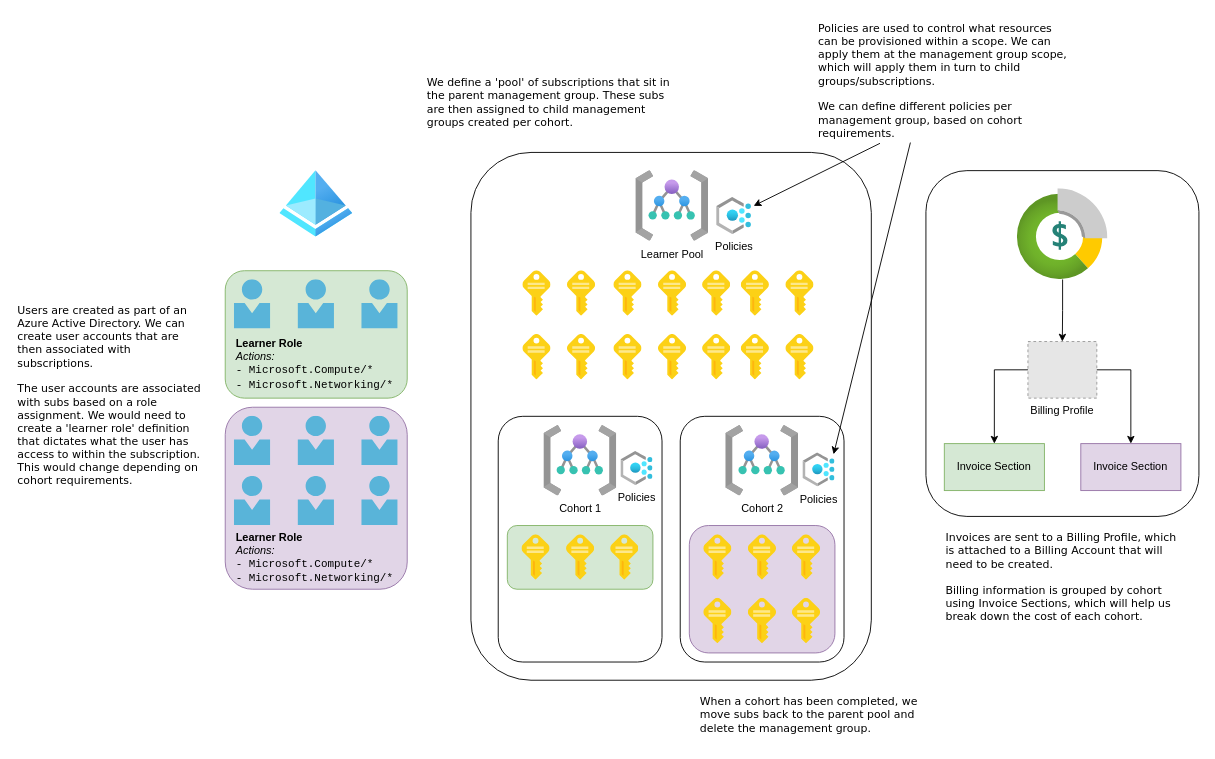
Image size: 1215x759. Some labels were removed from this diagram. Grey dashed boxes stand in for pictures. The centre of each missing label's shape, as x and y in pixels:
Active Directory: (315,203)
Billing Account: (1062,233)
